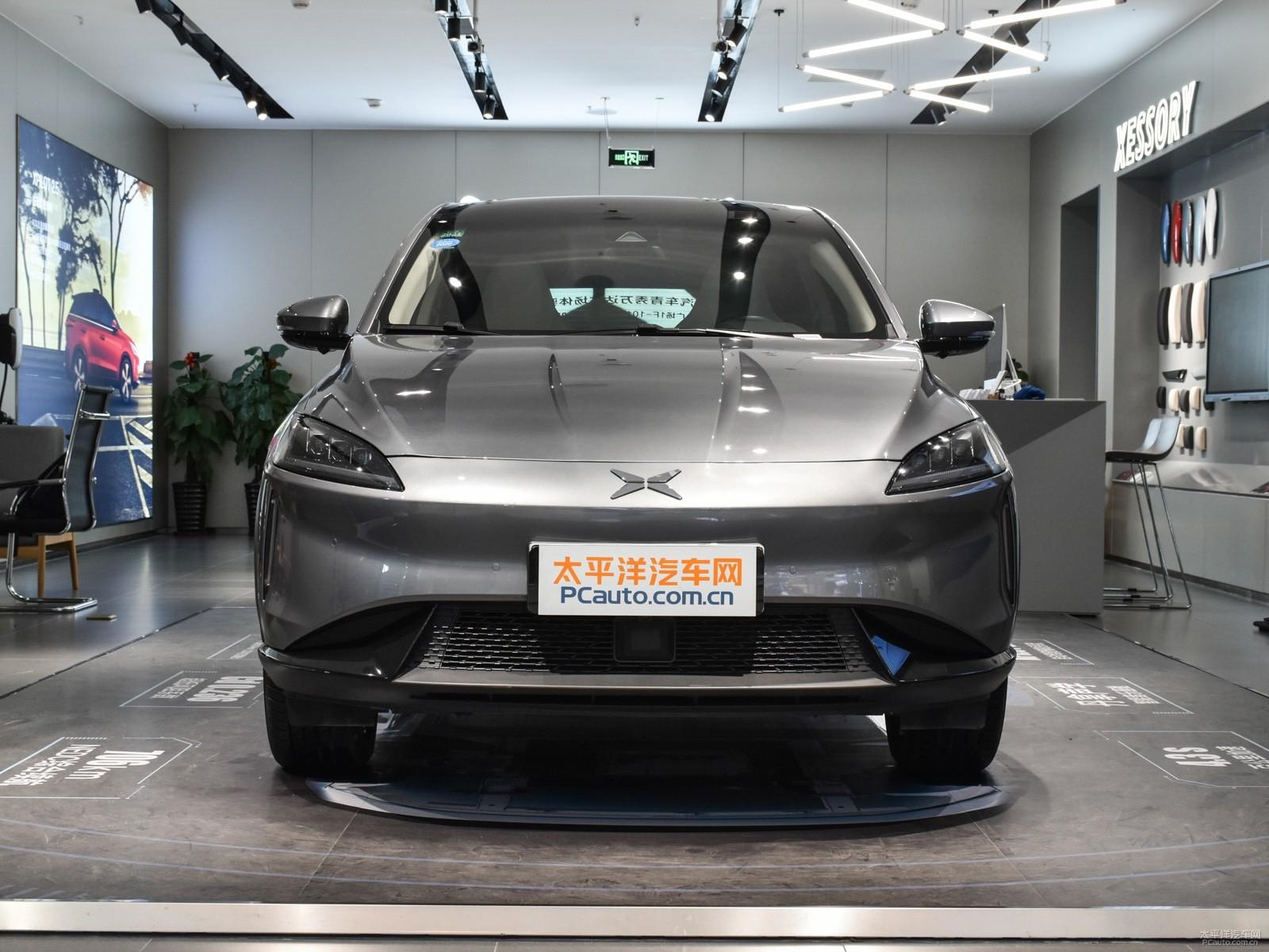XPeng Motors: (611, 468, 683, 500)
